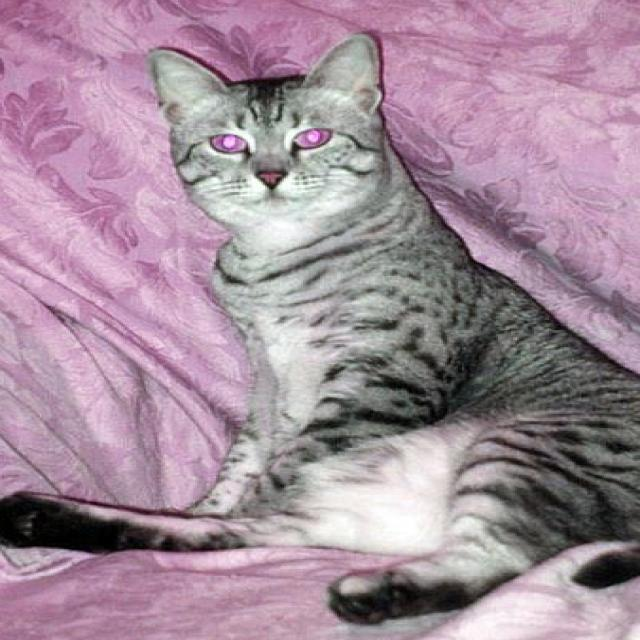Egyptian Mau: (0, 26, 640, 627)
